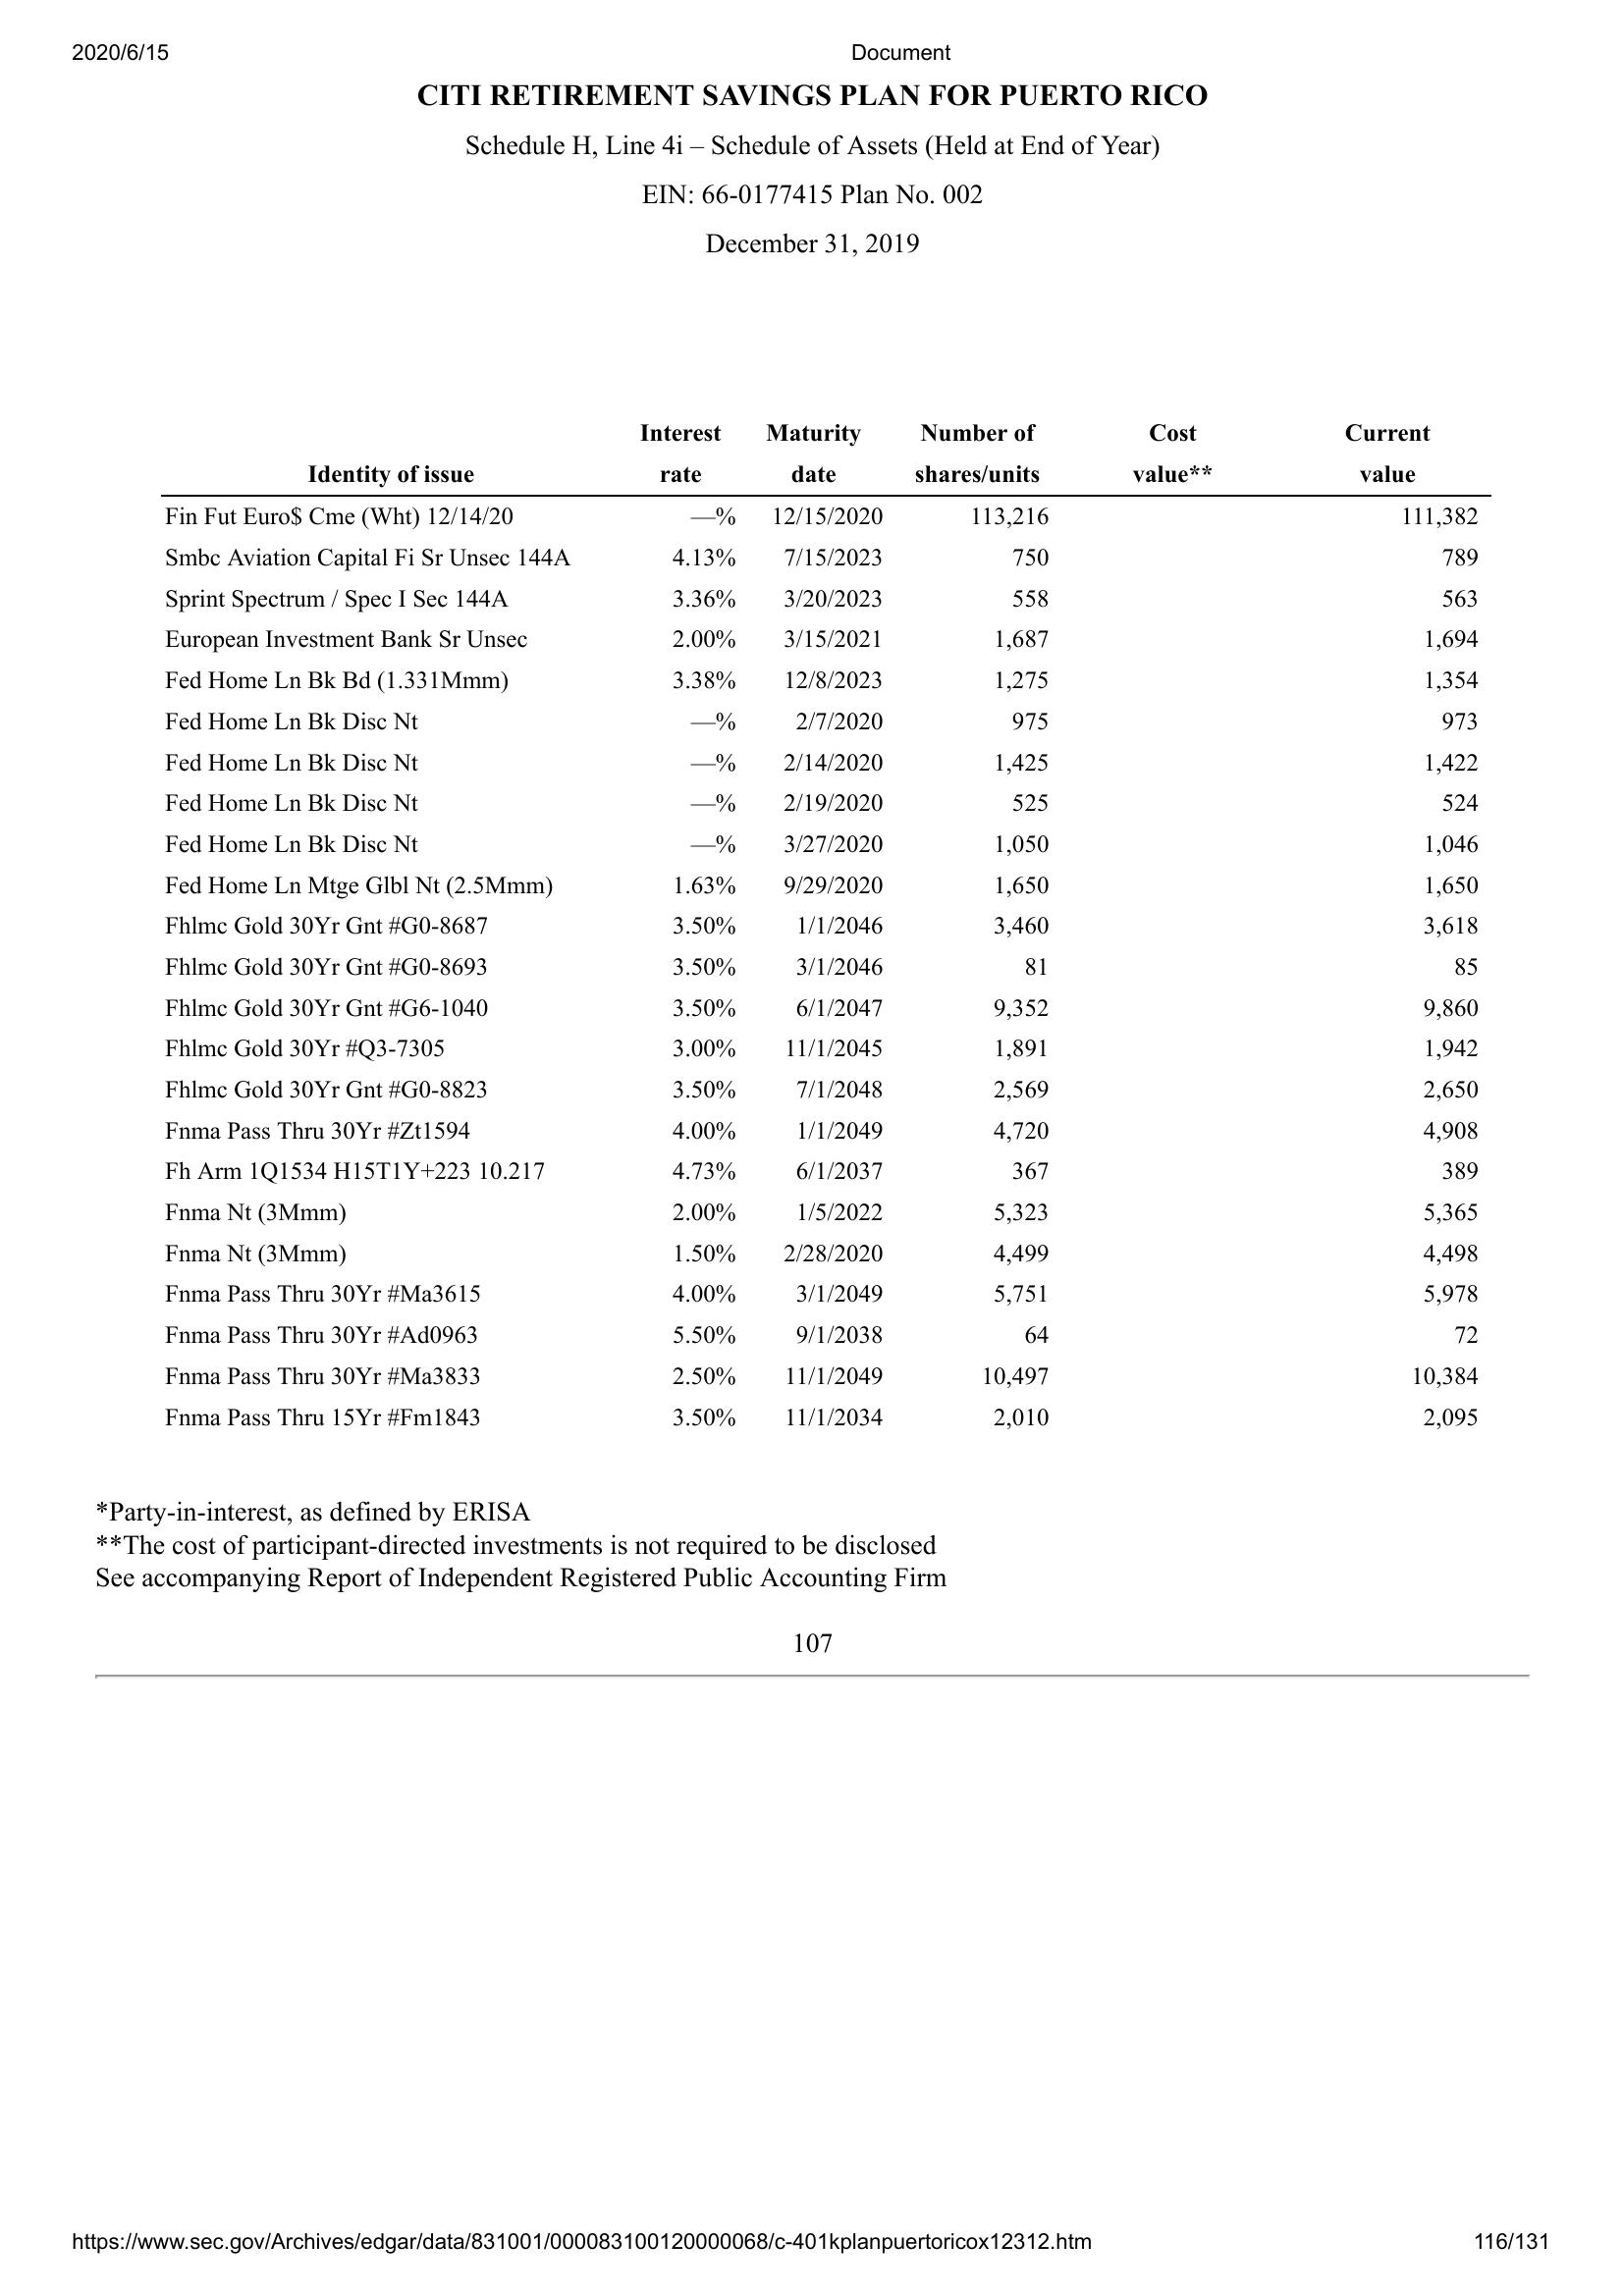table: (153, 413, 1500, 1446)
